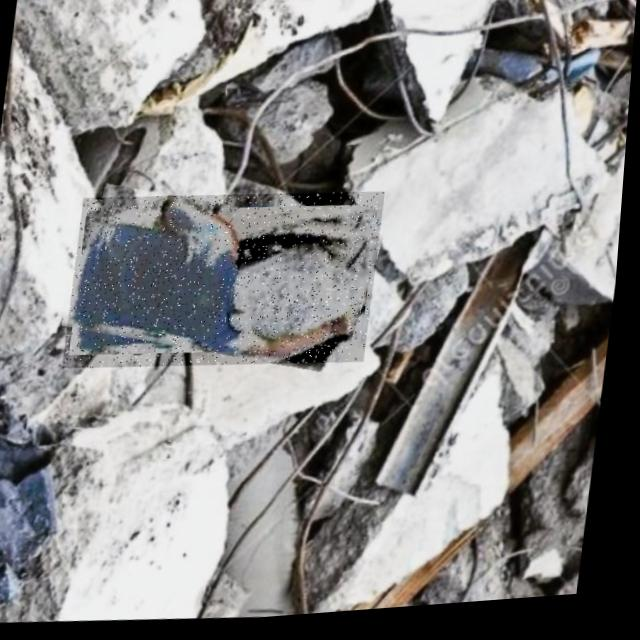Person in Rubble: (66, 182, 388, 386)
